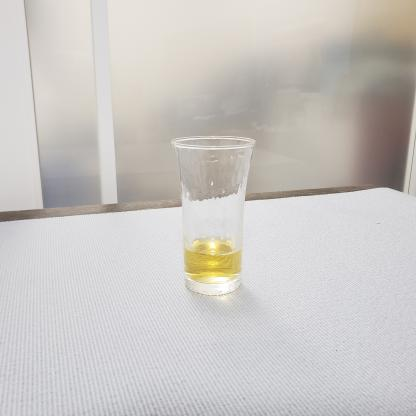glass: (170, 127, 268, 301)
